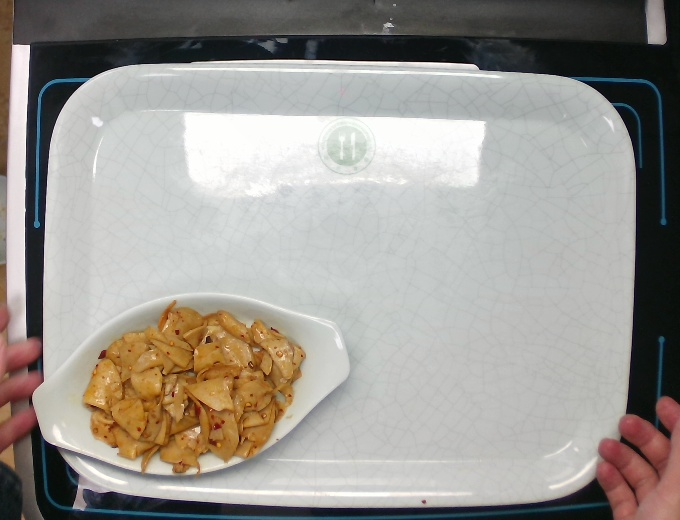JYsf-Yu_Pan: (26, 287, 360, 480)
